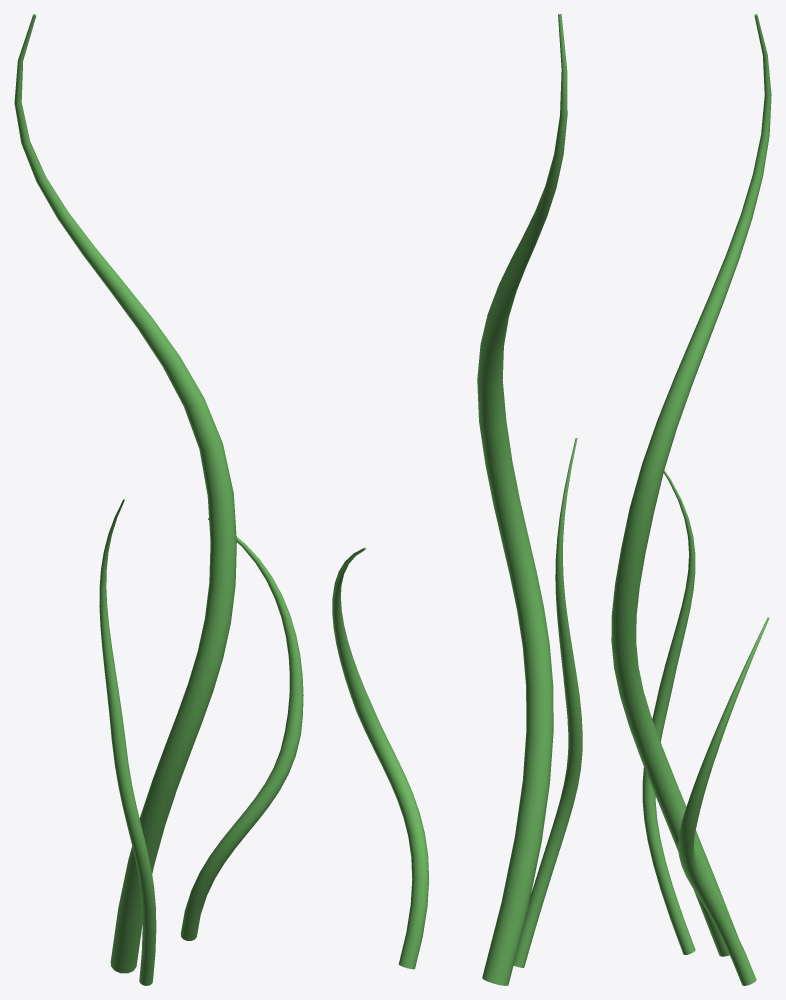
Rendered from grass1.fbx.
3 views of the same model, side by side, from view 1: azimuth 30°, elevation 25°; view 2: azimuth 150°, elevation 25°; view 3: azimuth 270°, elevation 25° (orthographic). The views are drawn at different scales.
Visible parts, largest first — view 1: BézierCurve.001, BézierCurve.002, BézierCurve; view 2: BézierCurve.001, BézierCurve.002, BézierCurve; view 3: BézierCurve.001, BézierCurve, BézierCurve.002.
Part boxes in pixels (x1=…): BézierCurve.001: x1=14, y1=14, x2=236, y2=973; BézierCurve.002: x1=180, y1=518, x2=303, y2=940; BézierCurve: x1=99, y1=499, x2=156, y2=985; BézierCurve.001: x1=477, y1=14, x2=567, y2=985; BézierCurve.002: x1=332, y1=547, x2=429, y2=969; BézierCurve: x1=513, y1=438, x2=582, y2=967; BézierCurve.001: x1=611, y1=14, x2=771, y2=956; BézierCurve: x1=642, y1=470, x2=695, y2=954; BézierCurve.002: x1=678, y1=617, x2=769, y2=985.
Bounding box in the file's own units: 84.49 × 307 × 49.23.
